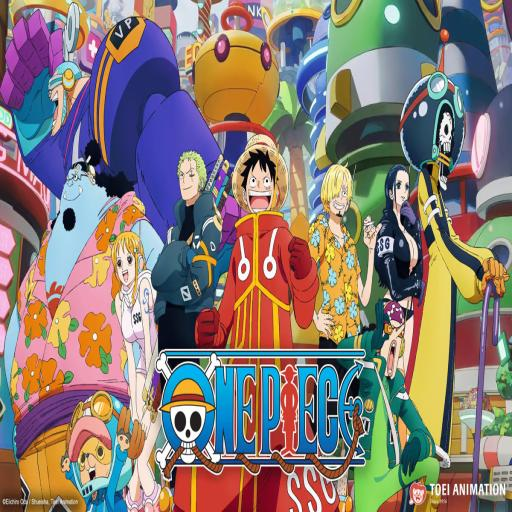Luffy: (215, 135, 303, 357)
Nami: (102, 230, 169, 426)
NicoRobin: (366, 143, 436, 315)
Usopp: (337, 302, 437, 512)
Zoro: (160, 144, 218, 340)
sanji: (308, 152, 375, 341)
